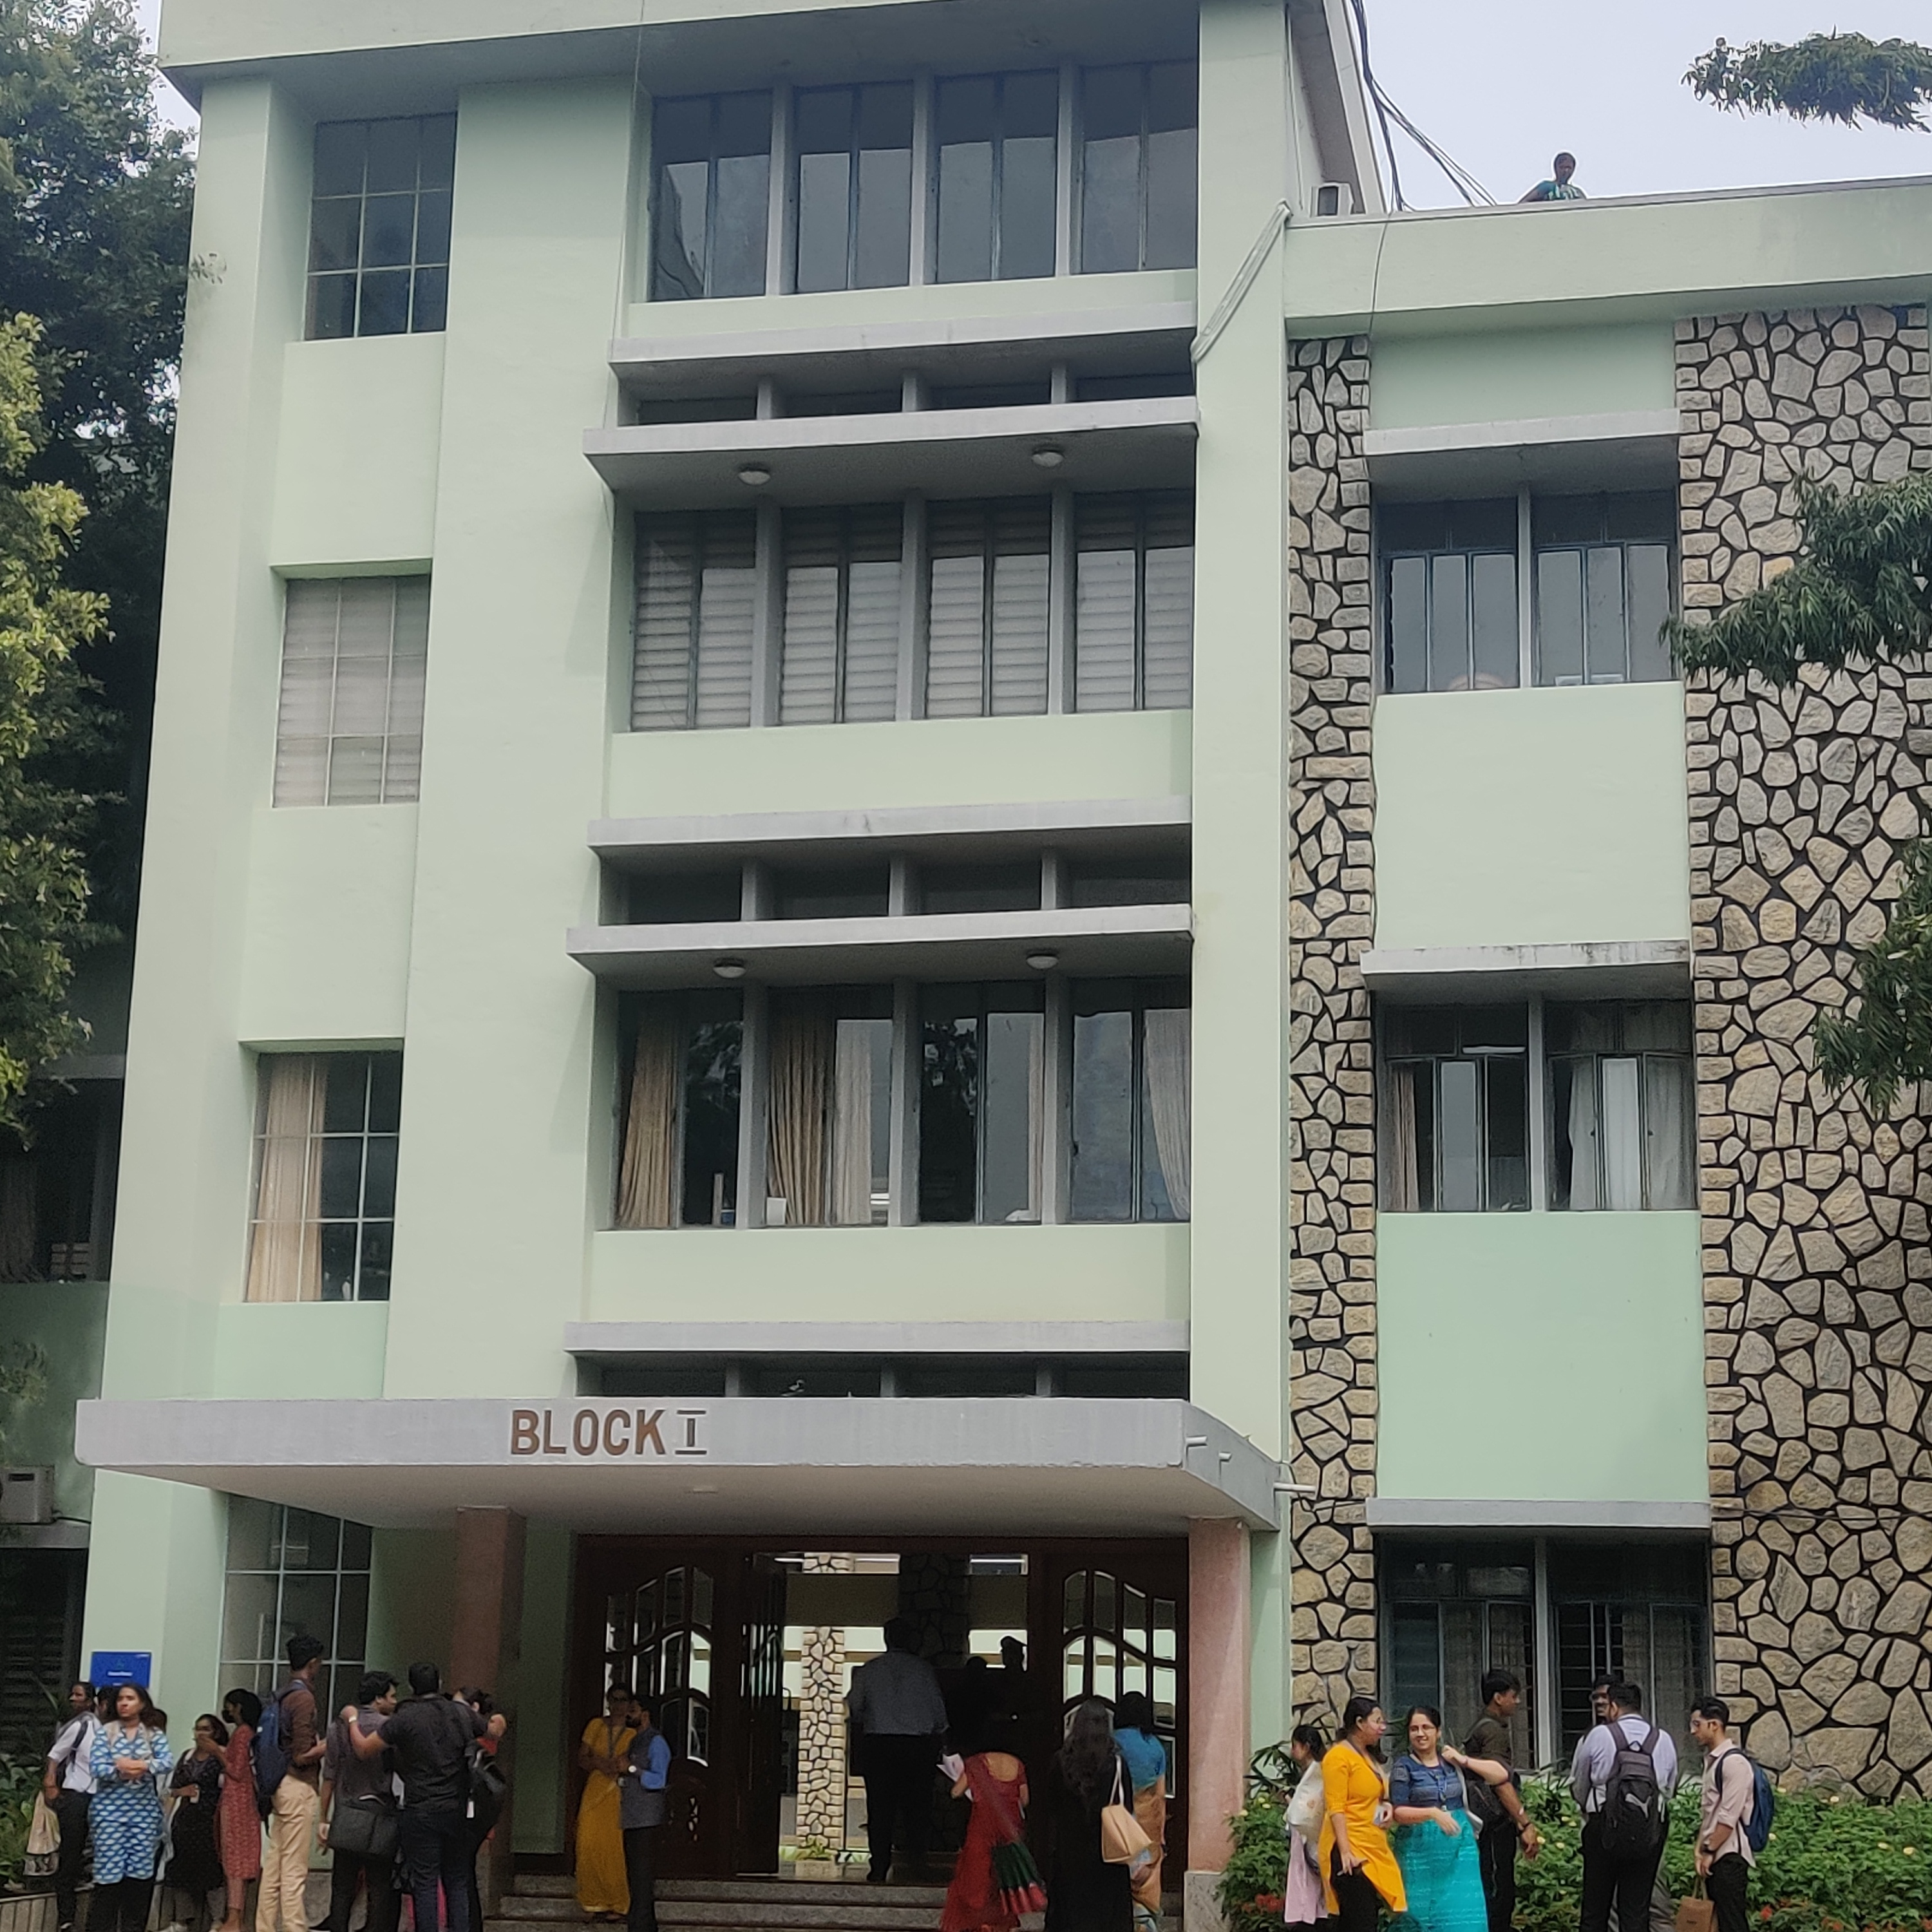Block 1: (150, 2, 1847, 1675)
